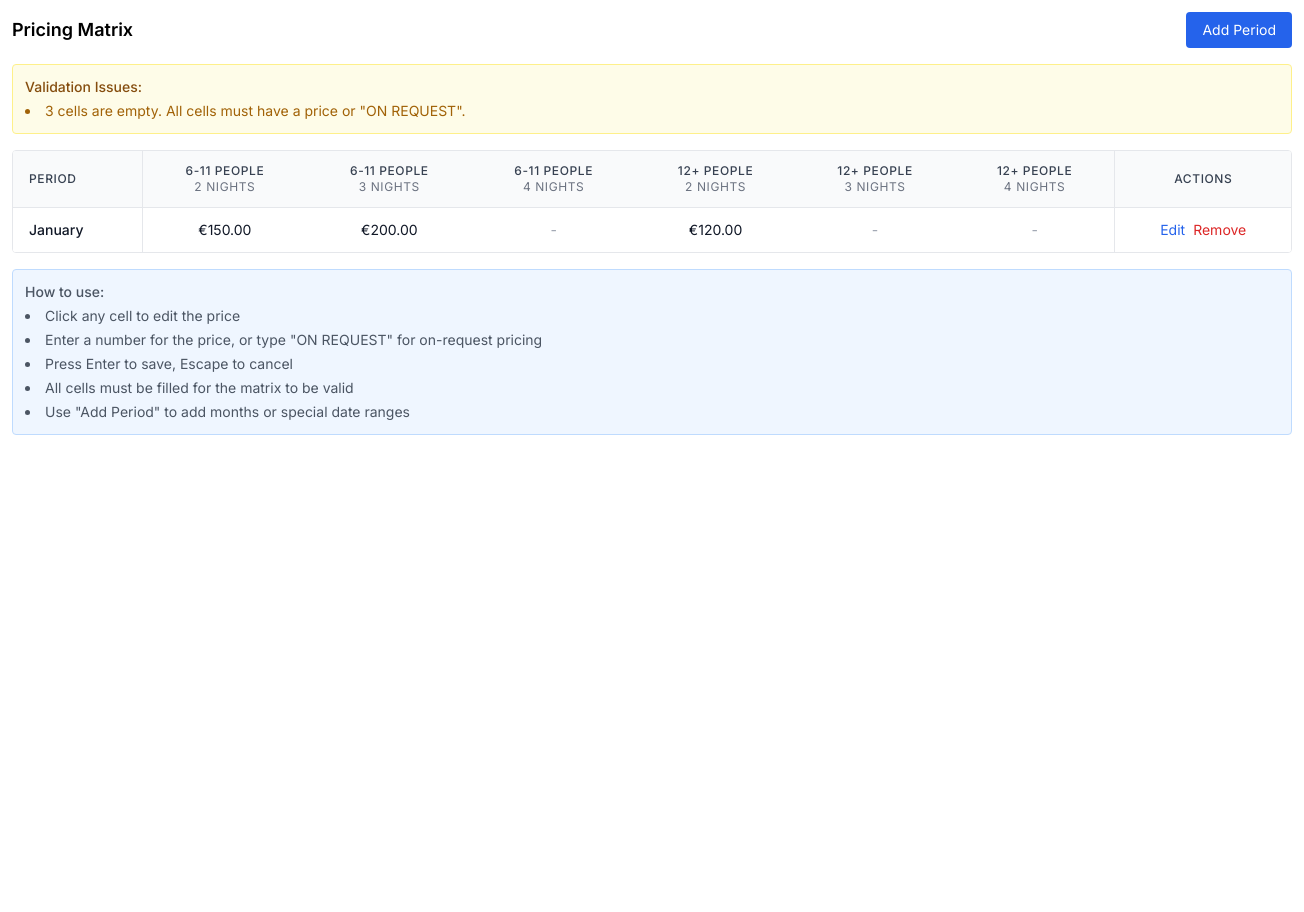
Scenario: PricingMatrixEditor › shows add period form when button clicked
The image size is (1304, 912).
Click the button "Add Period". click: (1239, 30)
box: [1186, 12, 1292, 48]
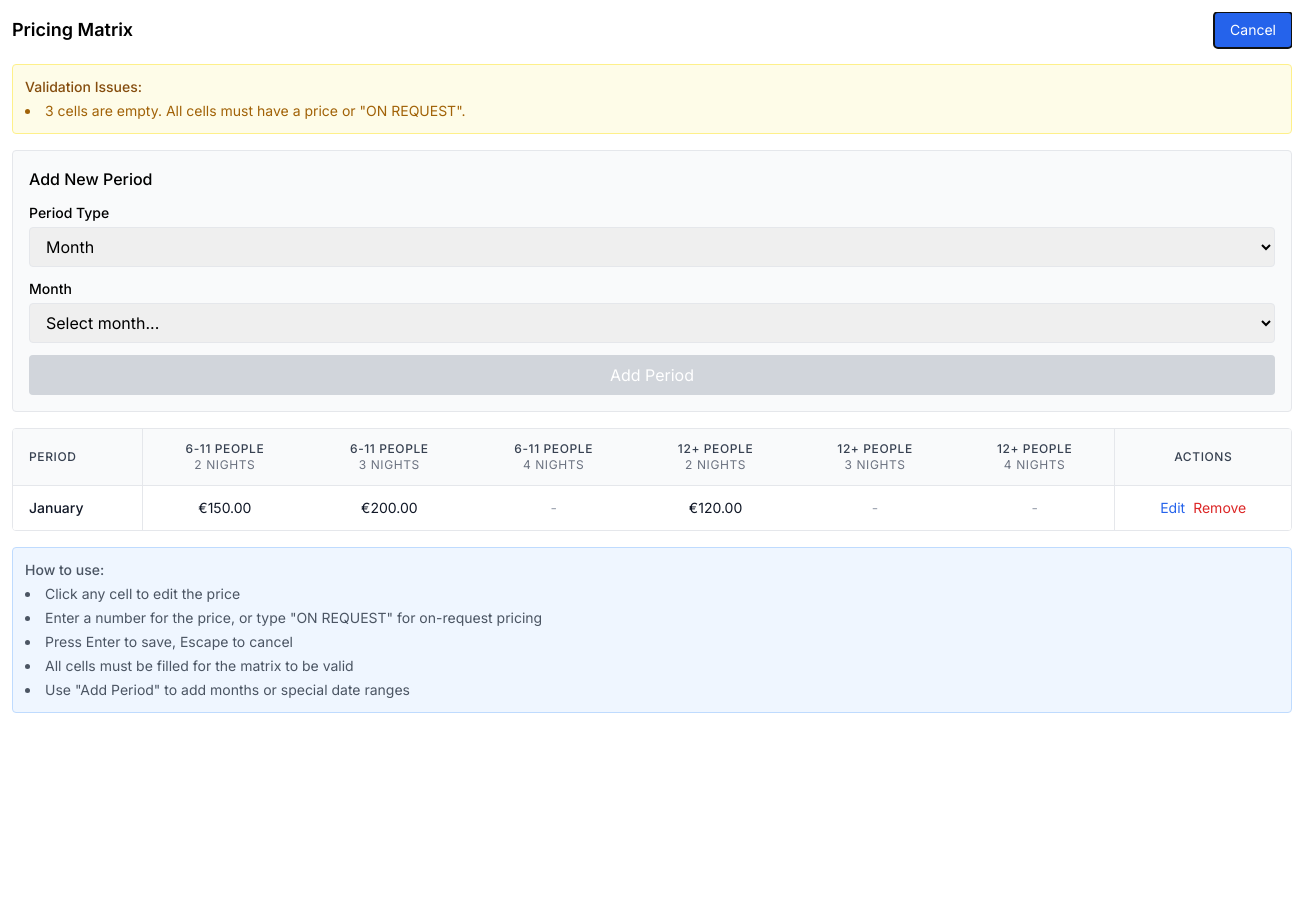
Check: the heading "Add New Period" is shown, box [29, 169, 152, 189]
Check: the dropdown labelled "Period Type" is shown, box [29, 227, 1275, 267]
